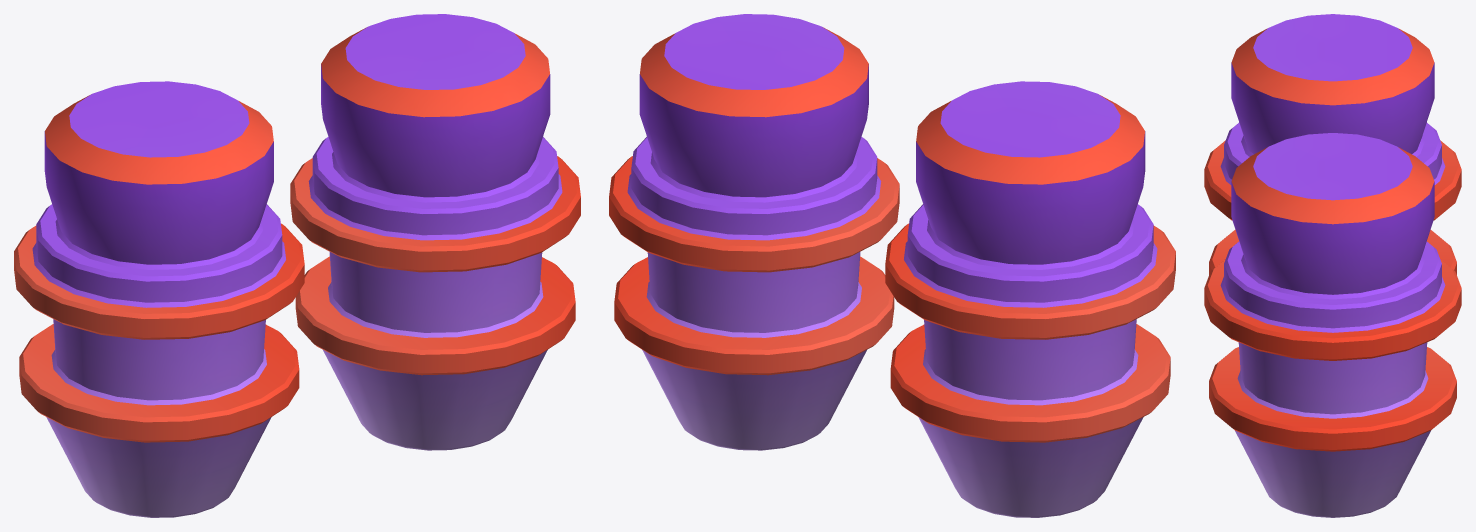
Rendered from Jet_V2.fbx.
3 views of the same model, side by side, from view 1: azimuth 30°, elevation 25°; view 2: azimuth 150°, elevation 25°; view 3: azimuth 270°, elevation 25° (orthographic). The views are drawn at different scales.
Parts seen in each view (by area): view 1: Jet_V2_L, Jet_V2_R; view 2: Jet_V2_L, Jet_V2_R; view 3: Jet_V2_R, Jet_V2_L.
Boxes of the visible parts, x1,y1,x2,y2 form: Jet_V2_L: (14,81,304,517); Jet_V2_R: (290,14,580,450); Jet_V2_L: (885,81,1175,517); Jet_V2_R: (609,14,899,450); Jet_V2_R: (1204,133,1461,517); Jet_V2_L: (1204,14,1461,274).
Size of the model in its own units: 123 by 81.82 by 58.89.
